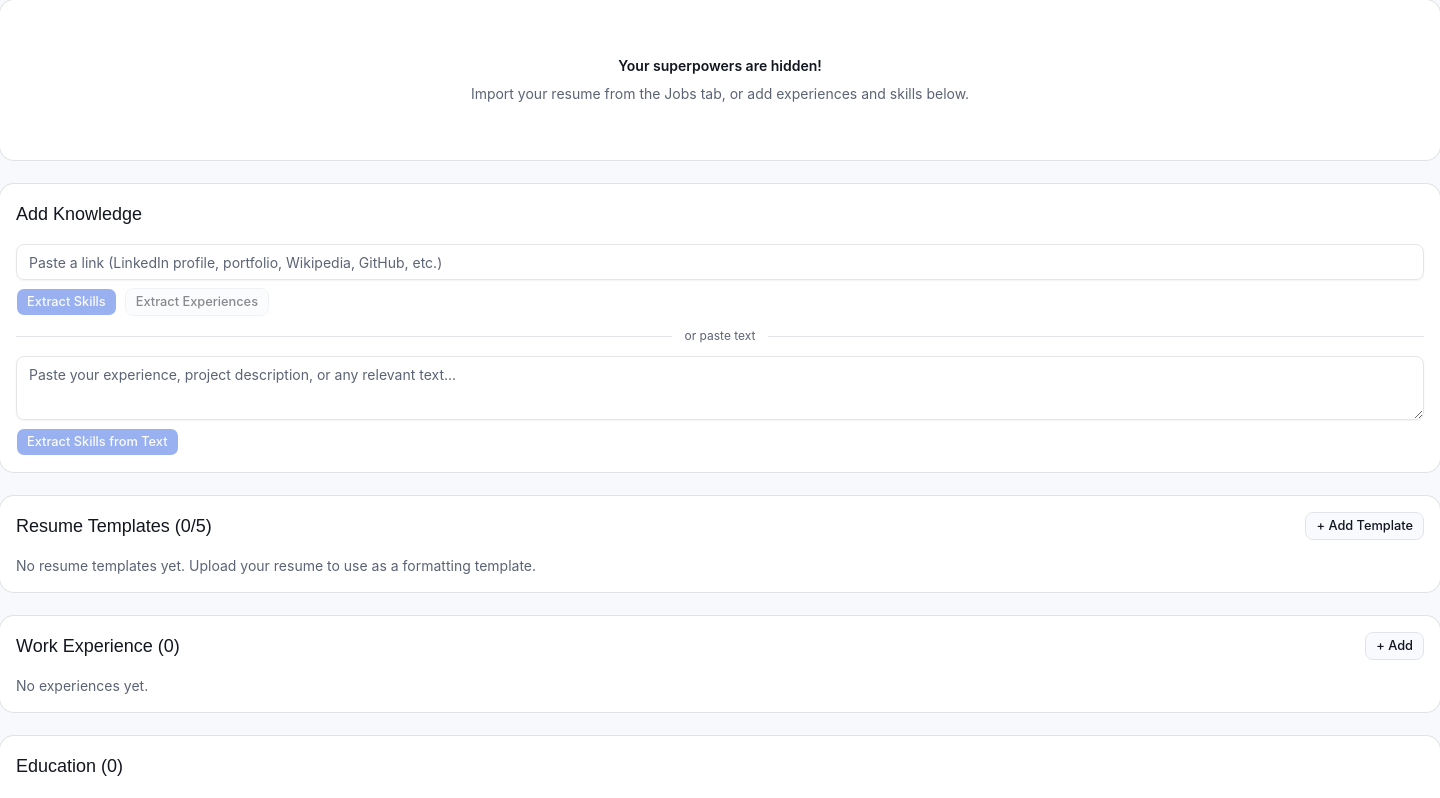
Test: KnowledgeBank — extract from text › Dismiss All clears the extracted skills banner
The width and height of the screenshot is (1440, 798).
Expected: the text "Add Knowledge" is shown, x1=16 y1=204 x2=142 y2=224
Type "test" into the text box with placeholder "Paste your experience" at (720, 388), box x1=16 y1=356 x2=1424 y2=420
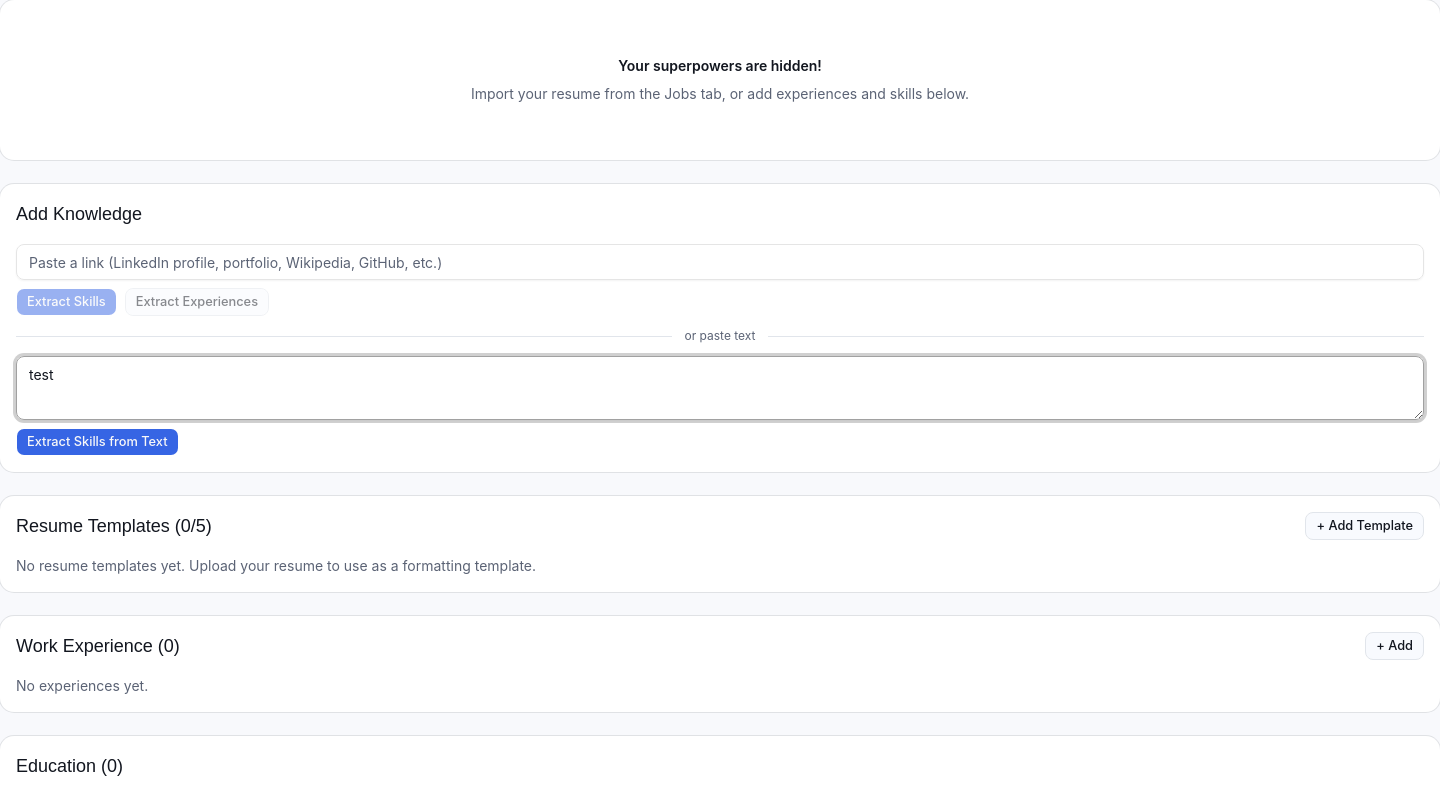
Click the button "Extract Skills from Text" at (97, 442), box x1=16 y1=428 x2=178 y2=456
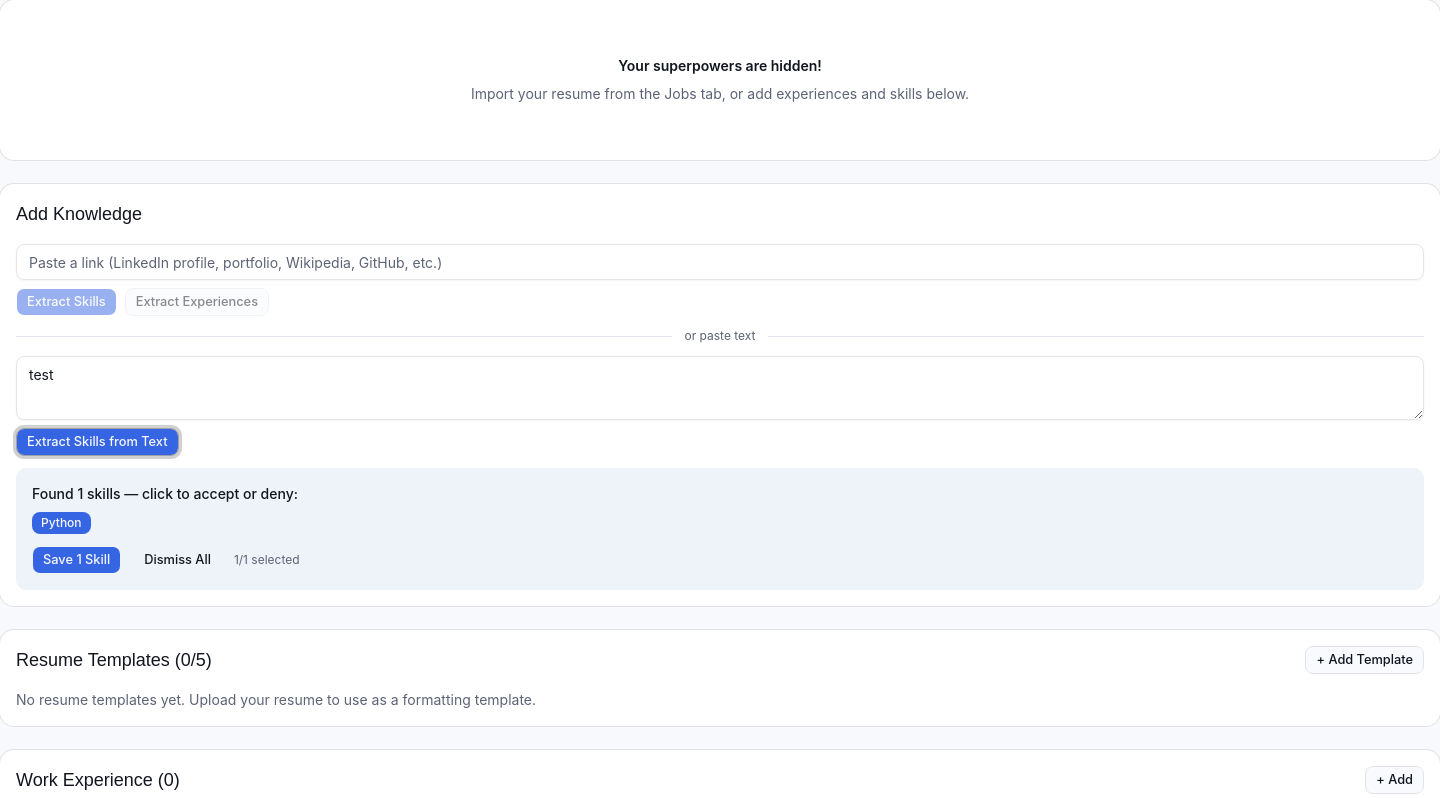
Result: the text "Python" is shown at x1=32 y1=512 x2=91 y2=534
Click the button "Dismiss All" at (178, 560), box x1=133 y1=546 x2=222 y2=574
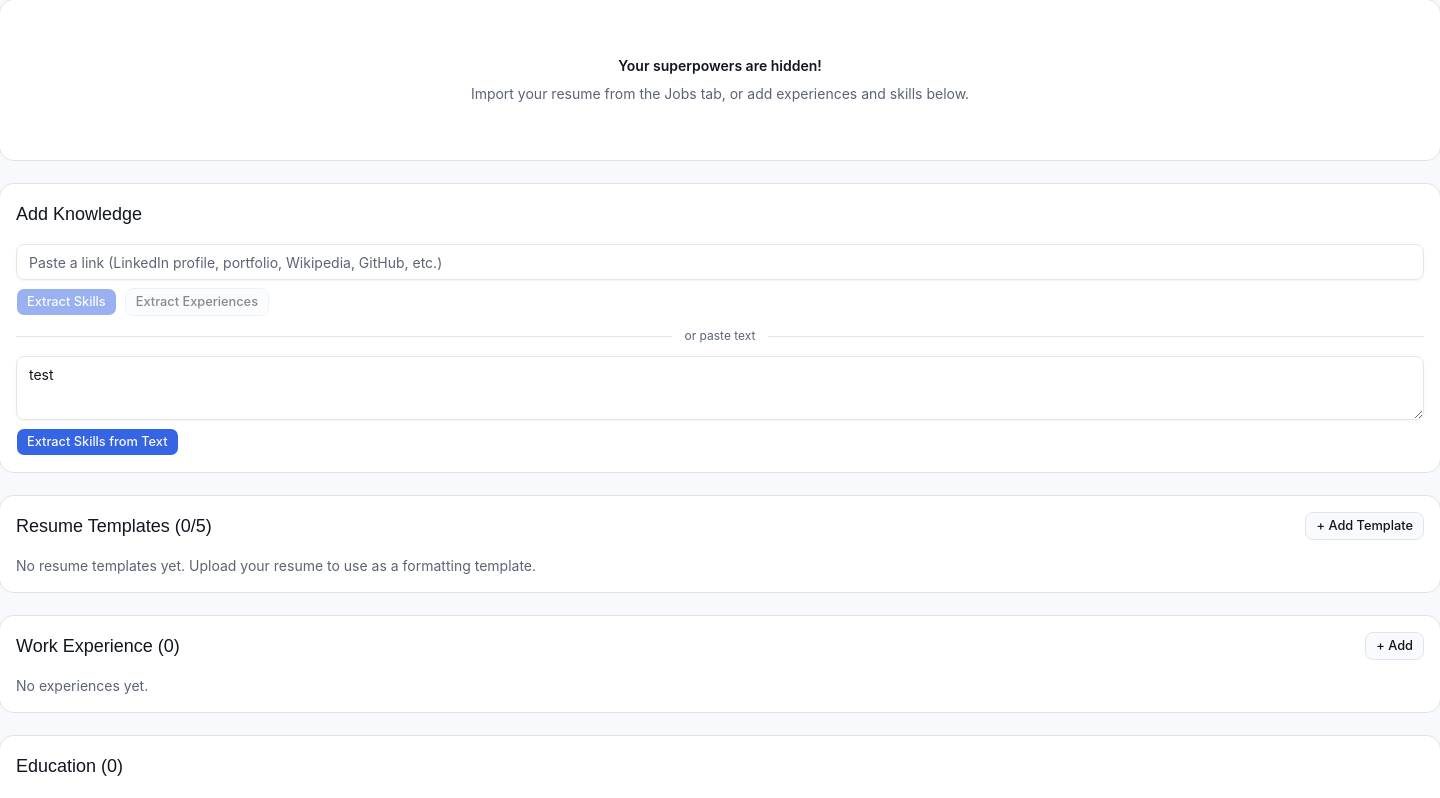
Result: the button "Save 1 Skill" is gone
